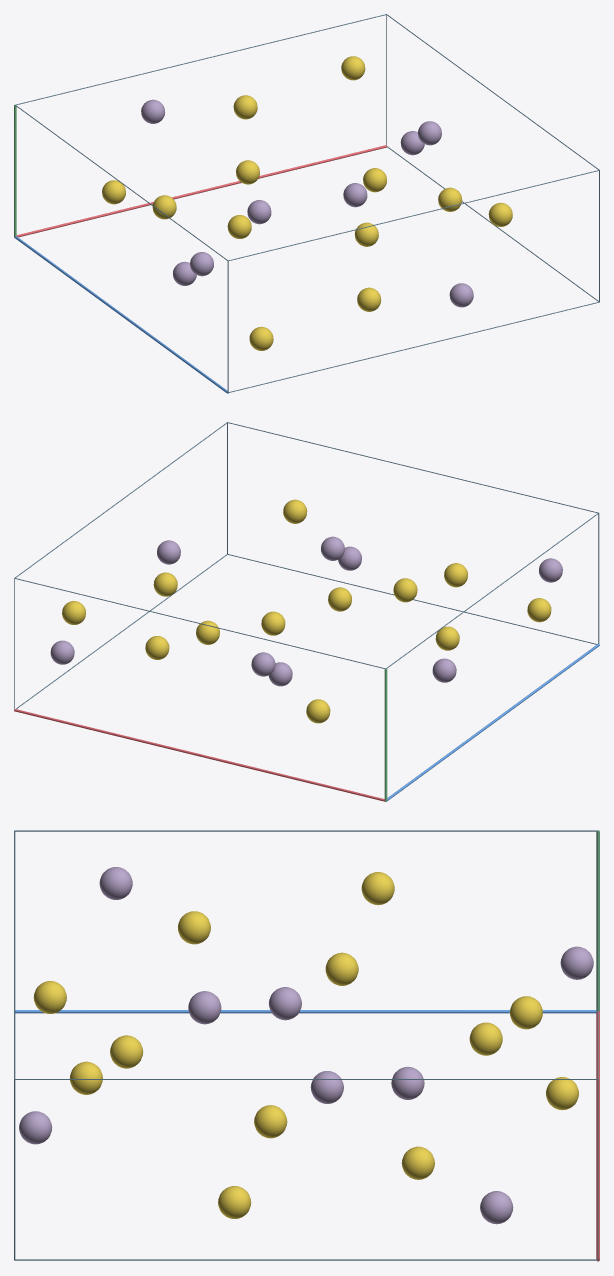
Rendered from stibnite.glb.
The picture shows the model from 3 angles, top to bottom: view 1: azimuth 30°, elevation 25°; view 2: azimuth 150°, elevation 25°; view 3: azimuth 270°, elevation 25°; orthographic projection. The views are drawn at different scales.
Visible parts, largest first — view 1: Ô mạng và các trục a, b, c; view 2: Ô mạng và các trục a, b, c; view 3: Ô mạng và các trục a, b, c, S1 · S · 1 (×4), S3 · S · 1 (×4), Sb1 · Sb · 1 (×4), Sb2 · Sb · 1 (×4), S2 · S · 1 (×4).
Part boxes in pixels (x1=…): Ô mạng và các trục a, b, c: x1=14, y1=14, x2=599, y2=393; Ô mạng và các trục a, b, c: x1=14, y1=422, x2=599, y2=801; Ô mạng và các trục a, b, c: x1=14, y1=830, x2=599, y2=1261; S1 · S · 1 (×4): x1=110, y1=911, x2=502, y2=1179; S3 · S · 1 (×4): x1=33, y1=952, x2=578, y2=1138; Sb1 · Sb · 1 (×4): x1=99, y1=867, x2=513, y2=1224; Sb2 · Sb · 1 (×4): x1=19, y1=946, x2=593, y2=1144; S2 · S · 1 (×4): x1=69, y1=872, x2=542, y2=1218.
Bounding box in the file's own units: 11.36 × 3.88 × 11.28.
